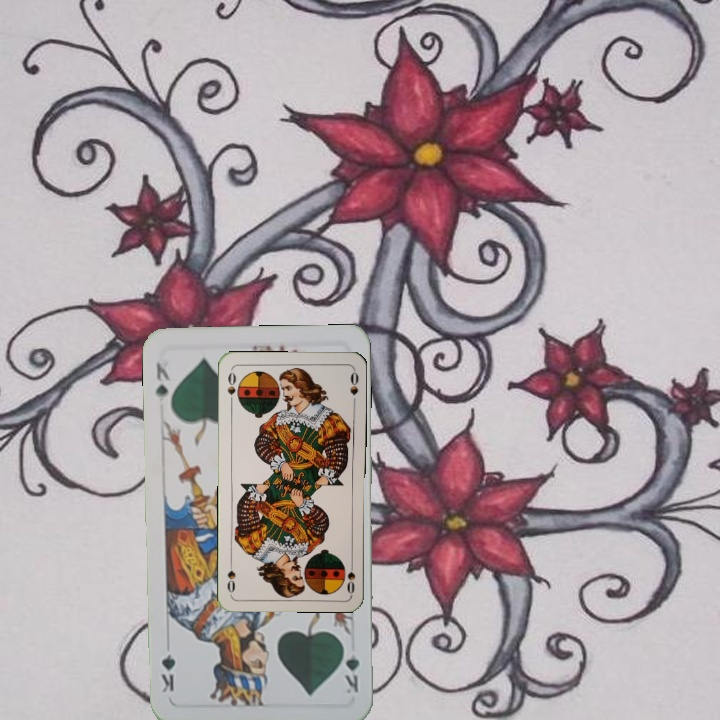GK: (339, 639, 362, 696), (152, 358, 172, 400)
SO: (343, 555, 358, 596), (224, 366, 238, 407)
